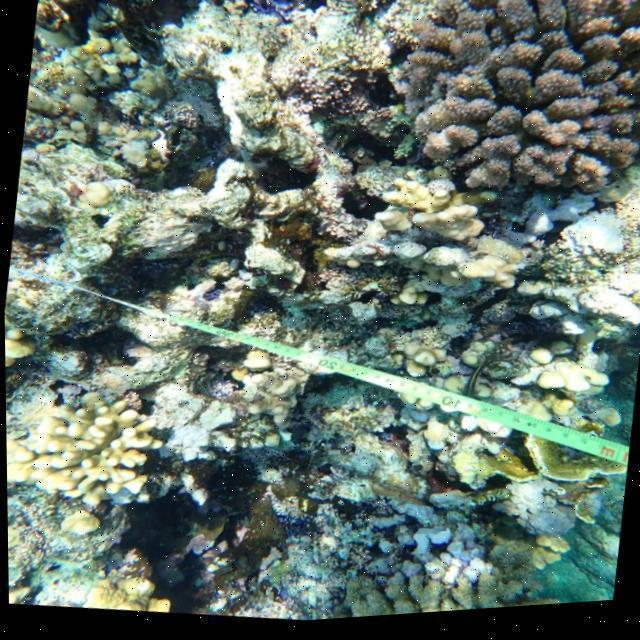Bleached Coral: (155, 384, 266, 492), (569, 194, 632, 284)
Healthy Coral: (413, 10, 629, 176)
